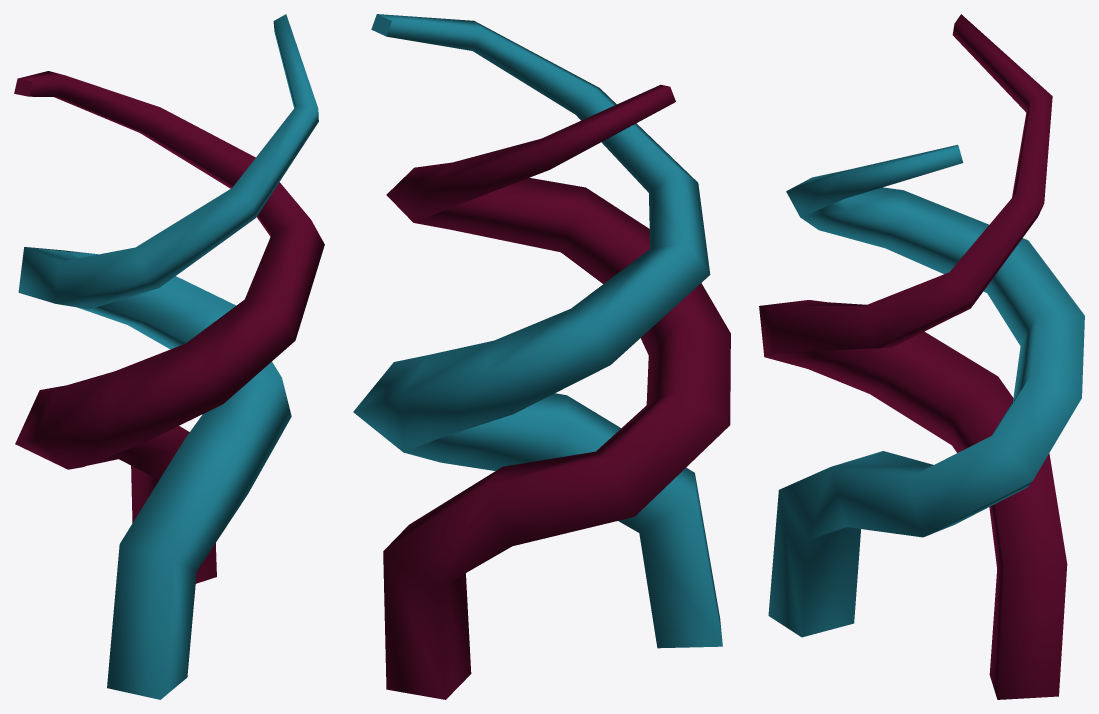
Rendered from plant-2.glb.
3 views of the same model, side by side, from view 1: azimuth 30°, elevation 25°; view 2: azimuth 150°, elevation 25°; view 3: azimuth 270°, elevation 25° (orthographic). The views are drawn at different scales.
Visible parts, largest first — view 1: Plant_2; view 2: Plant_2; view 3: Plant_2.
Part boxes in pixels (x1,y1,x2,y2): Plant_2: (14,14,324,699); Plant_2: (353,14,730,699); Plant_2: (759,14,1084,699).
Size of the model in its own units: 1.06 by 1.97 by 1.01.
